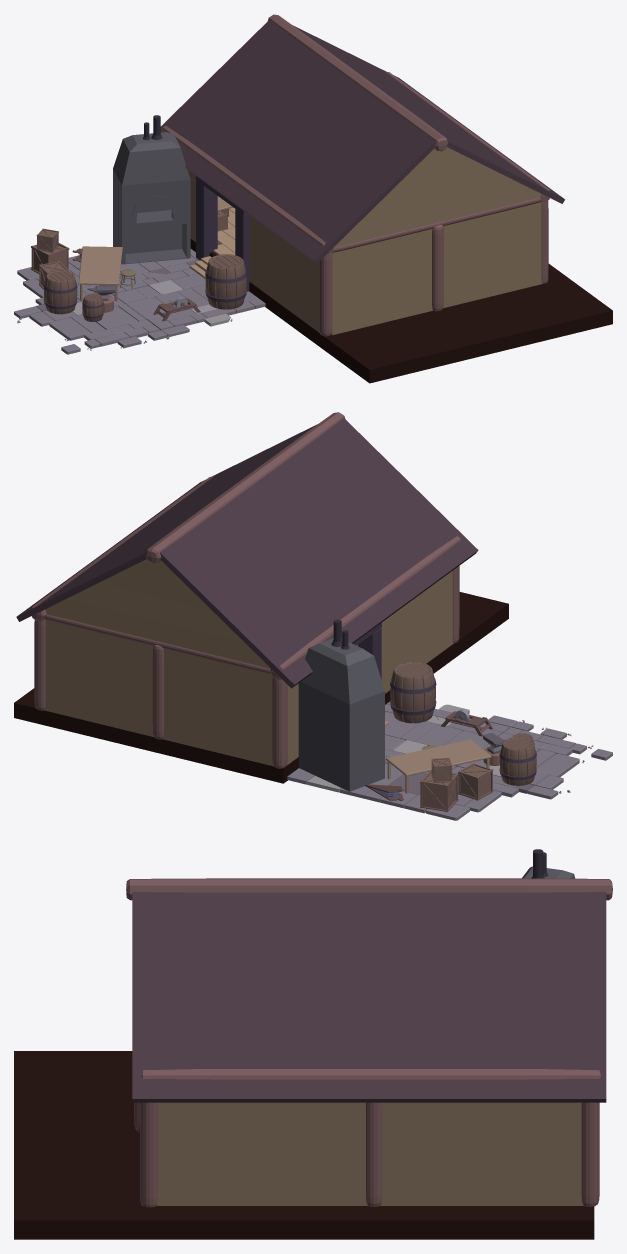
Rendered from background_ex_07.fbx.
3 renders of one model, top to bottom at view 1: azimuth 30°, elevation 25°; view 2: azimuth 150°, elevation 25°; view 3: azimuth 270°, elevation 25°, orthographic. The views are drawn at different scales.
Visible parts, largest first — view 1: roof, wall, Cube, Cube.098, Cube.007, door, Circle.002, Cube.169, Cube.012, Circle, Cube.001, Circle.001; view 2: roof, wall, Cube.007, Cube.098, Cube, Cube.012, Circle.002, Cube.169, Circle, door; view 3: roof, wall, Cube, Cube.007.
Part boxes in pixels (x1=…): roof: x1=160, y1=14, x2=564, y2=263; wall: x1=187, y1=170, x2=548, y2=336; Cube: x1=190, y1=238, x2=612, y2=383; Cube.098: x1=14, y1=249, x2=265, y2=354; Cube.007: x1=113, y1=115, x2=190, y2=264; door: x1=195, y1=176, x2=249, y2=291; Circle.002: x1=205, y1=254, x2=246, y2=309; Cube.169: x1=78, y1=246, x2=122, y2=301; Cube.012: x1=31, y1=228, x2=69, y2=289; Circle: x1=43, y1=270, x2=77, y2=314; Cube.001: x1=189, y1=207, x2=235, y2=278; Circle.001: x1=82, y1=293, x2=103, y2=321; roof: x1=16, y1=412, x2=478, y2=688; wall: x1=34, y1=566, x2=459, y2=768; Cube.007: x1=298, y1=619, x2=384, y2=792; Cube.098: x1=287, y1=701, x2=612, y2=820; Cube: x1=14, y1=592, x2=508, y2=783; Cube.012: x1=420, y1=757, x2=493, y2=812; Circle.002: x1=390, y1=662, x2=436, y2=723; Cube.169: x1=386, y1=739, x2=491, y2=793; Circle: x1=499, y1=737, x2=536, y2=785; door: x1=353, y1=622, x2=381, y2=679; roof: x1=126, y1=878, x2=612, y2=1102; wall: x1=134, y1=1102, x2=599, y2=1207; Cube: x1=14, y1=1051, x2=594, y2=1239; Cube.007: x1=522, y1=849, x2=575, y2=878.
Size of the model in its own units: 2053 by 829 by 1669.
